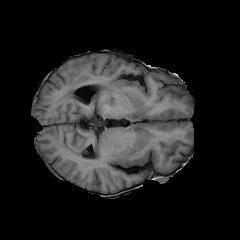glioma: (61, 71, 116, 106)
